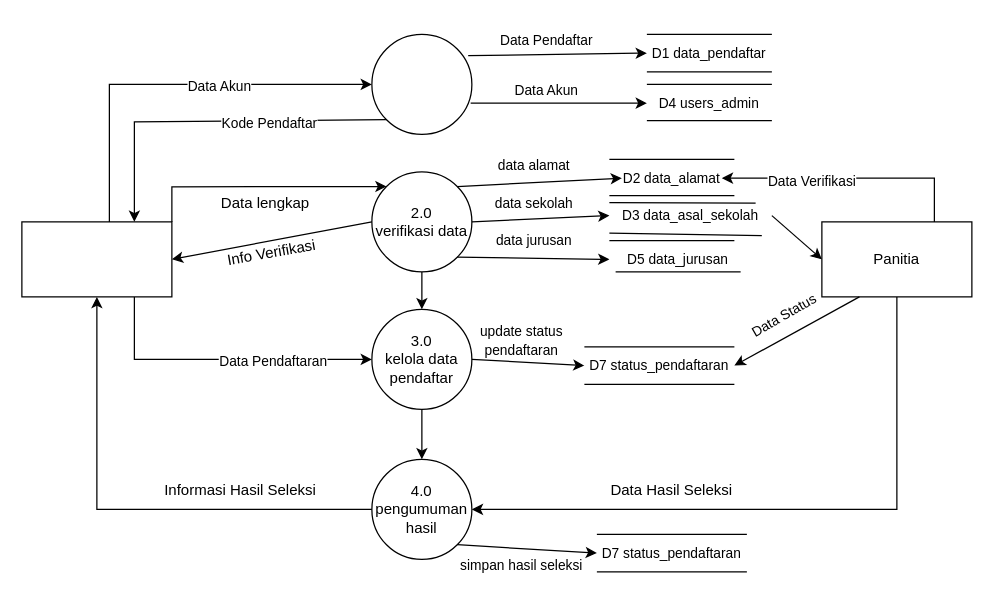
The diagram is 994 pixels wide and 605 high, and some of its shapes have lost their labels. The shapes that lost their labels are listed below. From the top down, each one's centre as x and y in pixels, then its label:
point (421, 83): 1.0 pendaftaran online
point (96, 259): Calon Siswa
